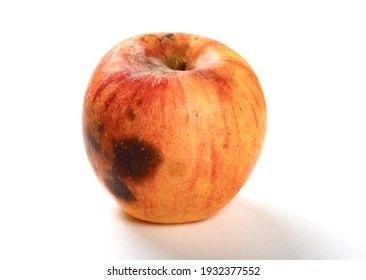Apple: (81, 33, 268, 224)
